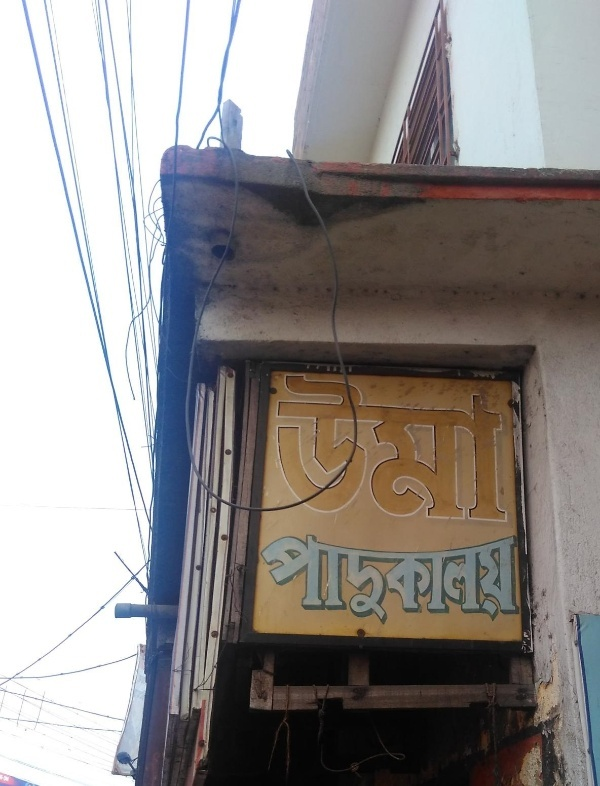text: (289, 371, 304, 529), (305, 371, 320, 529), (321, 371, 336, 529), (337, 371, 352, 529), (353, 371, 368, 529), (369, 371, 384, 529), (385, 371, 400, 529), (401, 371, 416, 529), (417, 371, 432, 529), (433, 371, 448, 529), (449, 371, 464, 529), (465, 371, 480, 529), (481, 371, 496, 529), (497, 371, 512, 529), (277, 371, 288, 529), (273, 528, 288, 625), (289, 528, 304, 625), (305, 528, 320, 625), (321, 528, 336, 625), (337, 528, 352, 625), (353, 528, 368, 625), (369, 528, 384, 625), (385, 528, 400, 625), (401, 528, 416, 625), (417, 528, 432, 625), (433, 528, 448, 625), (449, 528, 464, 625), (465, 528, 480, 625), (481, 528, 496, 625), (497, 528, 512, 625), (258, 528, 272, 625), (513, 528, 524, 625)
